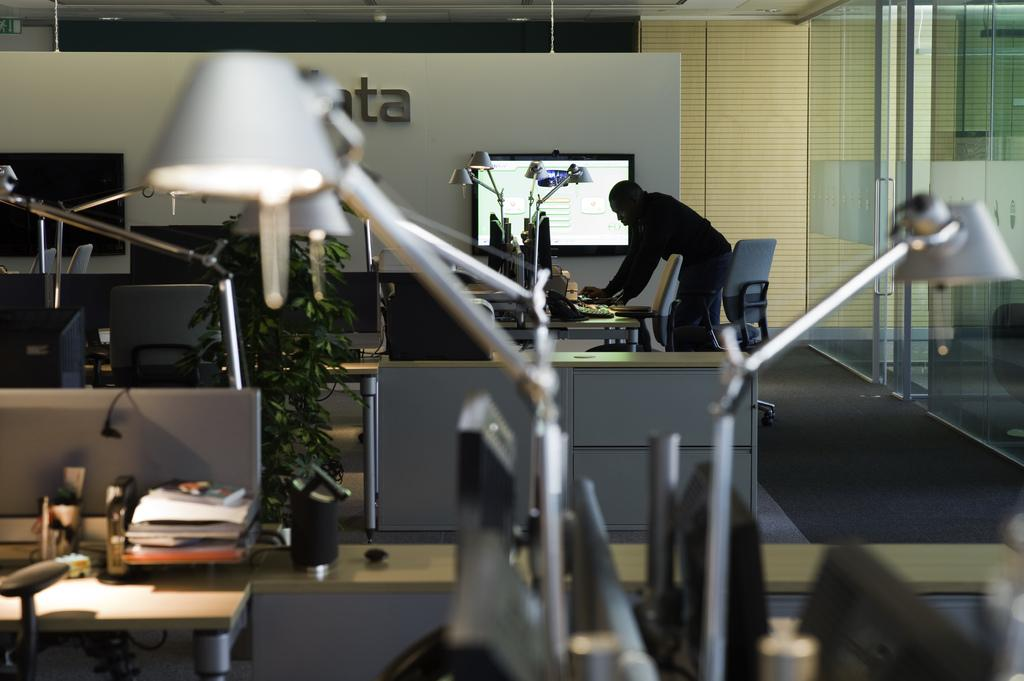Chair: (111, 280, 228, 384), (588, 253, 687, 362), (705, 240, 775, 347), (49, 307, 88, 392), (64, 243, 95, 276), (28, 247, 59, 278)
